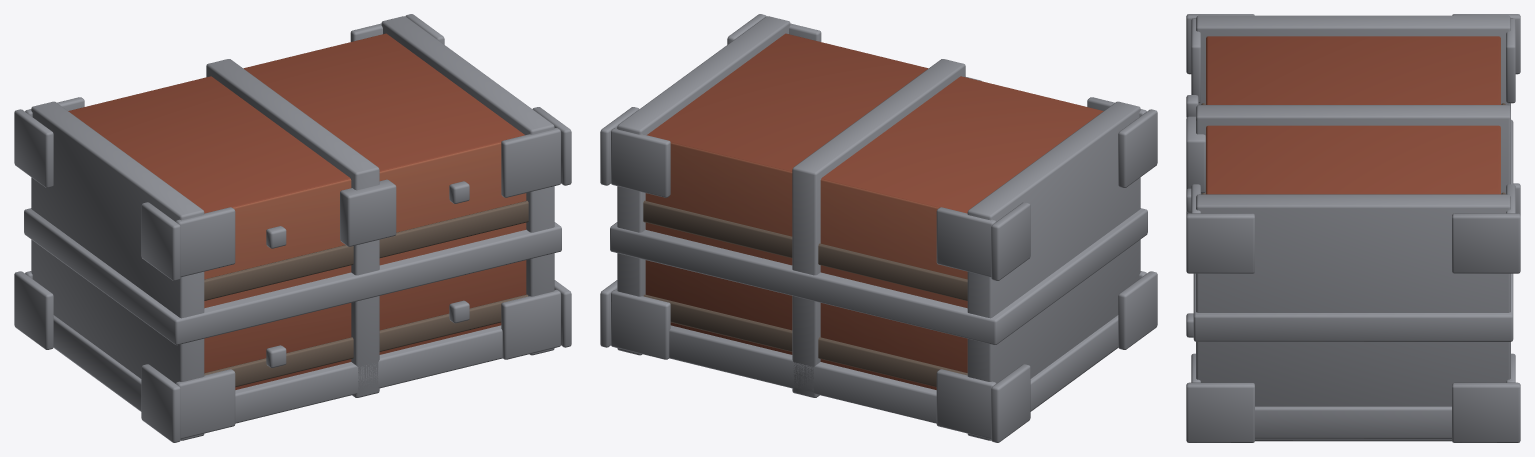
The model's file is chest_reinforced_body.glb.
3 renders of one model, left to right at view 1: azimuth 30°, elevation 25°; view 2: azimuth 150°, elevation 25°; view 3: azimuth 270°, elevation 25°, orthographic. The views are drawn at different scales.
Parts seen in each view (by area): view 1: chest_reinforced_body; view 2: chest_reinforced_body; view 3: chest_reinforced_body.
Part boxes in pixels (<box>): chest_reinforced_body: <box>14,14,571,442</box>; chest_reinforced_body: <box>600,14,1157,442</box>; chest_reinforced_body: <box>1186,14,1520,442</box>.
Size of the model in its own units: 0.98 by 0.53 by 0.68.
2 materials, 1 textured.
